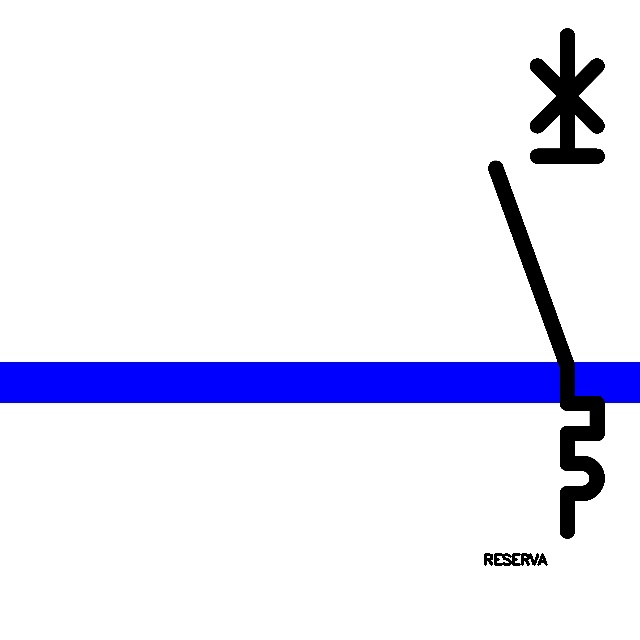interruptor_termomagnetico: (483, 23, 610, 544)
